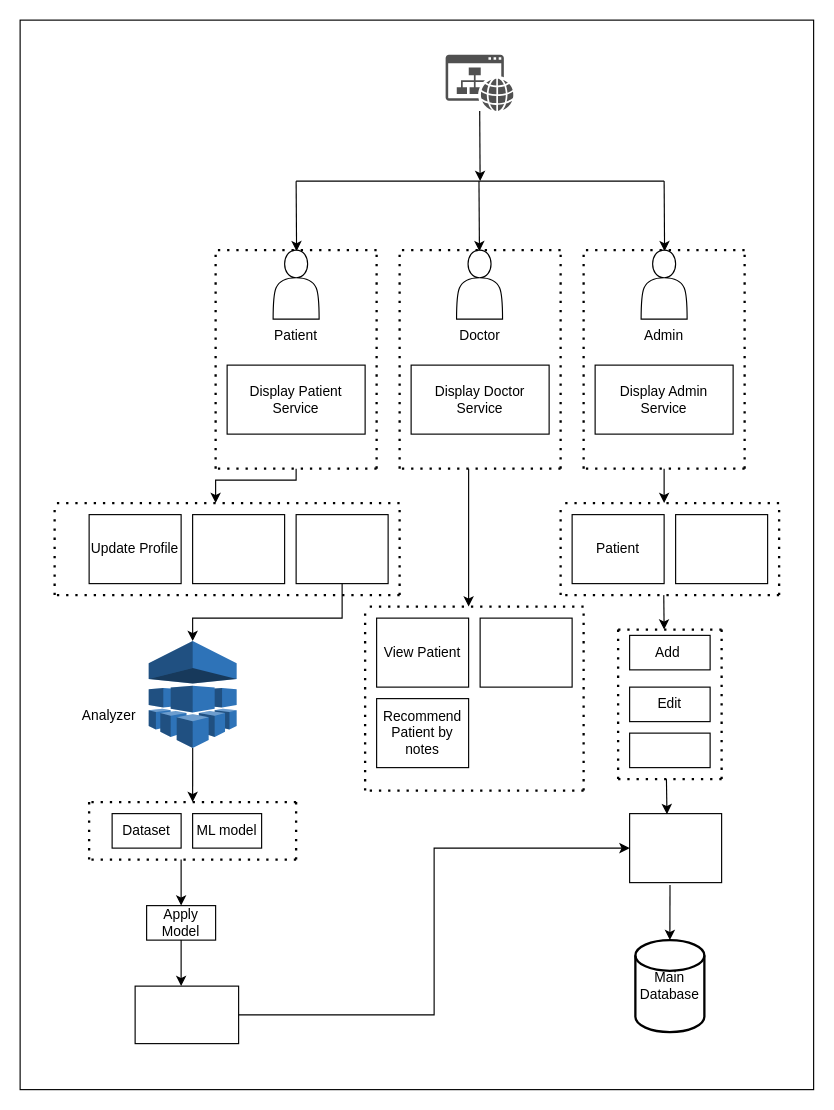
This 834x1110 diagram has some shape labels left out. The shapes that lost their labels are listed below. From the top down, each one's centre as x and y in pixels, then its label:
At point 238,548: "Analysis Log".
At point 341,548: "Analysis Page".
At point 721,548: "Docter".
At point 525,652: "Display Patient Classification result".
At point 669,750: "Delete".
At point 675,847: "Save/ Update Database".
At point 186,1014: "Classification outcome".
